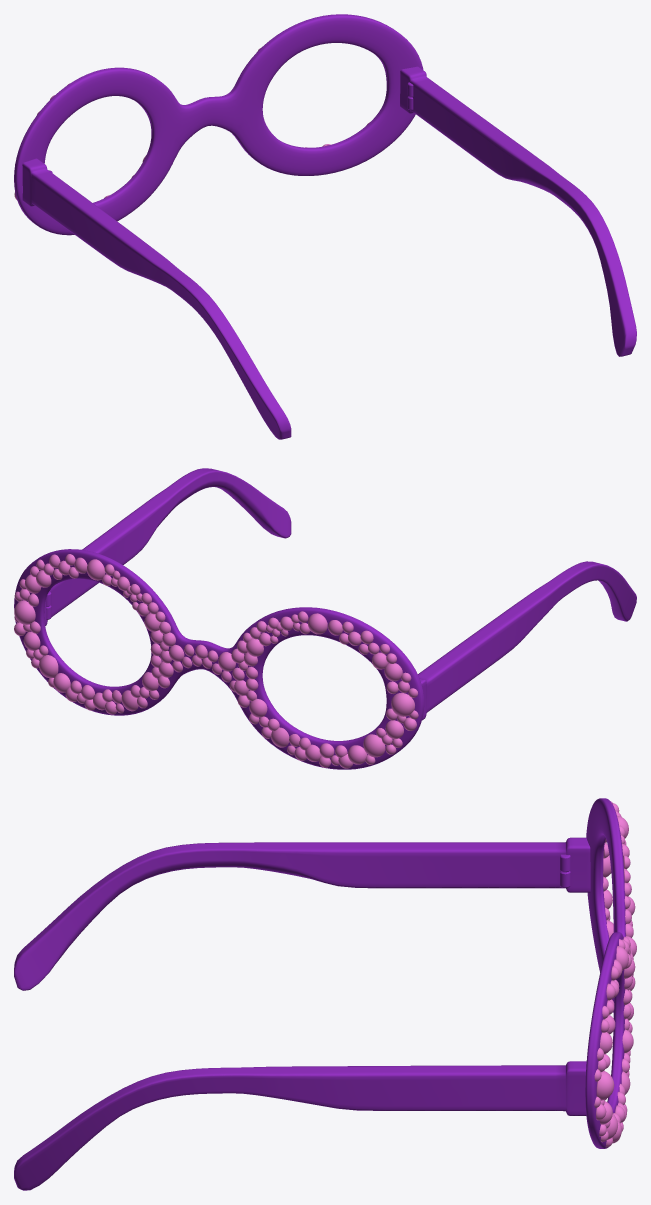
3 renders of one model, top to bottom at view 1: azimuth 30°, elevation 25°; view 2: azimuth 150°, elevation 25°; view 3: azimuth 270°, elevation 25°, orthographic. The views are drawn at different scales.
Visible parts, largest first — view 1: 5; view 2: 5; view 3: 5.
Boxes of the visible parts, <box> form: 5: <box>14,14,636,439</box>; 5: <box>14,468,636,769</box>; 5: <box>14,798,636,1190</box>.
Size of the model in its own units: 14.56 by 5.94 by 15.98.
